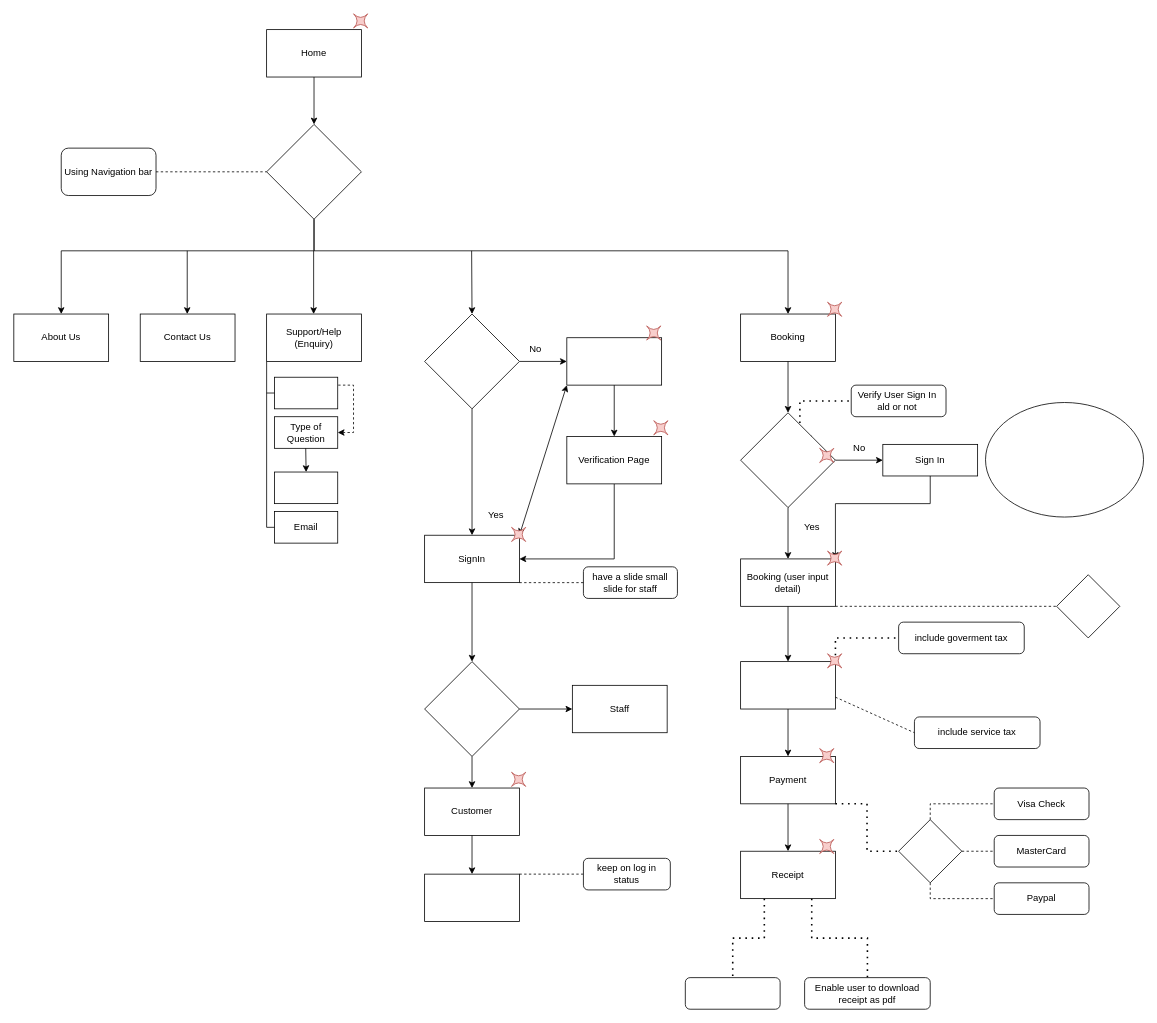
The diagram is 1157 pixels wide and 1023 high, and some of its shapes have lost their labels. Each missing label, with the box of its shape:
Answer: (274, 471, 338, 504)
Calculate Total Amount: (740, 661, 835, 709)
FAQ: (274, 376, 338, 409)
Have an account: (424, 313, 519, 409)
Home Page: (424, 873, 519, 922)
MAYBE A DIFFERENT SIGN IN PAGE SO IT WILL NOT CONFUSE WITH THE ANOTHER: (985, 402, 1144, 517)
PAYMENT METHOD: (898, 819, 962, 883)
Provide Email Receipt: (685, 977, 780, 1009)
Select Any Ride Services: (740, 412, 835, 508)
Sign Up: (566, 337, 662, 385)
What pages it can access: (266, 124, 361, 219)
Who are you: (424, 661, 519, 756)
